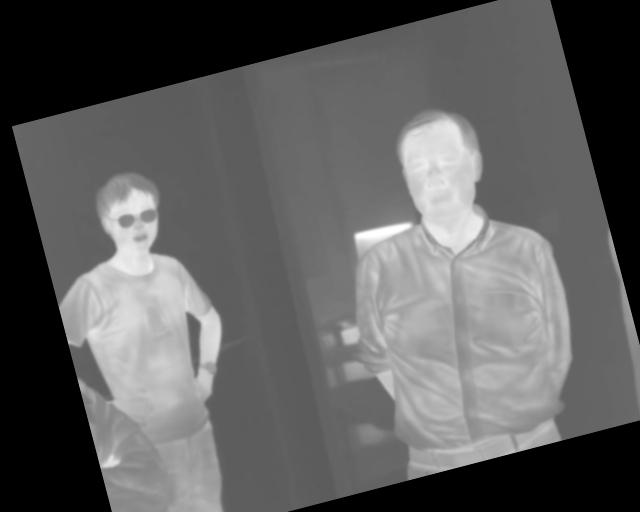face: (386, 97, 497, 233), (88, 164, 174, 265)
